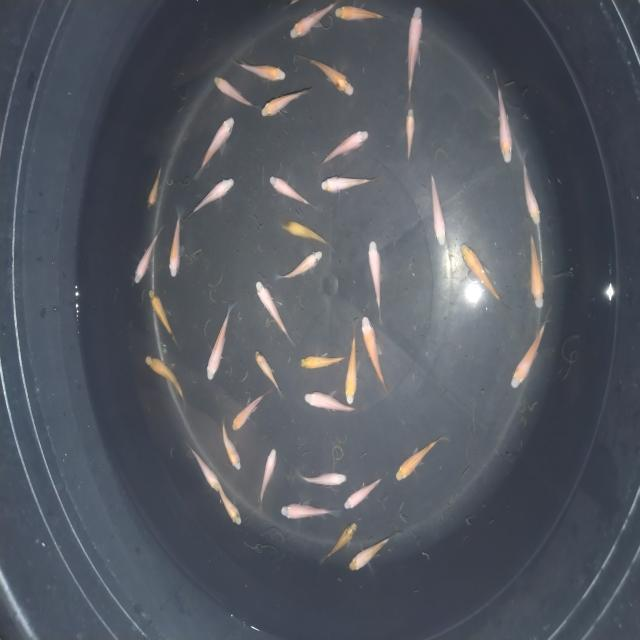nila: (508, 307, 554, 394), (458, 240, 508, 310), (188, 112, 238, 182), (252, 276, 298, 348), (486, 68, 516, 164), (401, 4, 429, 106), (359, 313, 392, 398), (146, 286, 187, 354), (298, 54, 361, 98), (182, 174, 237, 223), (204, 304, 236, 385), (143, 353, 188, 409), (394, 436, 446, 484), (316, 125, 374, 168), (347, 531, 397, 577), (182, 437, 222, 494), (287, 0, 340, 43), (130, 224, 166, 286), (256, 84, 316, 121), (210, 72, 262, 114), (274, 246, 328, 284), (516, 156, 543, 232), (230, 51, 294, 83), (342, 472, 388, 514), (228, 386, 270, 432), (266, 173, 318, 210), (274, 217, 334, 249), (322, 520, 360, 568), (300, 387, 360, 417), (213, 477, 244, 535), (253, 447, 281, 511), (252, 343, 284, 398), (526, 229, 546, 314), (366, 234, 386, 318), (430, 166, 450, 246), (398, 109, 422, 168), (167, 206, 186, 280), (220, 416, 244, 474), (344, 327, 361, 408), (280, 498, 340, 520), (332, 4, 391, 26), (146, 156, 168, 212), (320, 176, 380, 196), (294, 469, 350, 489), (298, 352, 351, 370)
